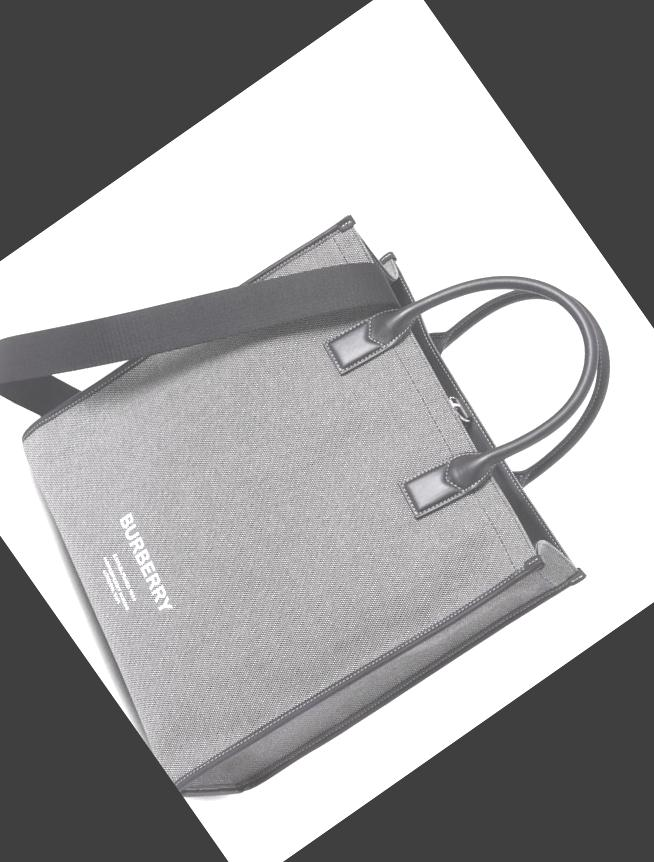BURBERRY: (102, 512, 188, 615)
